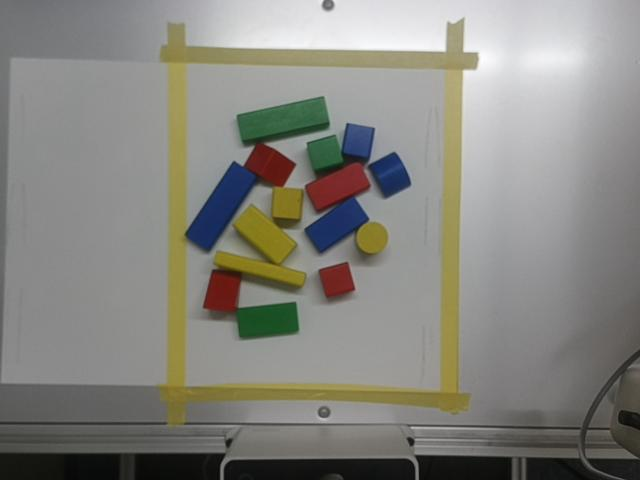blue_cube: (343, 123, 375, 158)
blue_longrect: (185, 162, 256, 251)
blue_rect: (306, 198, 368, 252)
cylinder: (358, 222, 389, 253)
green_cube: (308, 136, 343, 169)
green_longrect: (237, 98, 329, 142)
green_rect: (238, 303, 298, 338)
half_cylinder: (371, 152, 412, 198)
red_cube: (321, 262, 356, 298)
red_rect: (307, 163, 370, 211)
triangle: (243, 144, 296, 186), (202, 271, 241, 311)
yellow_archrect: (234, 204, 296, 263)
yellow_cube: (272, 189, 304, 221)
yellow_longrect: (214, 251, 305, 287)
